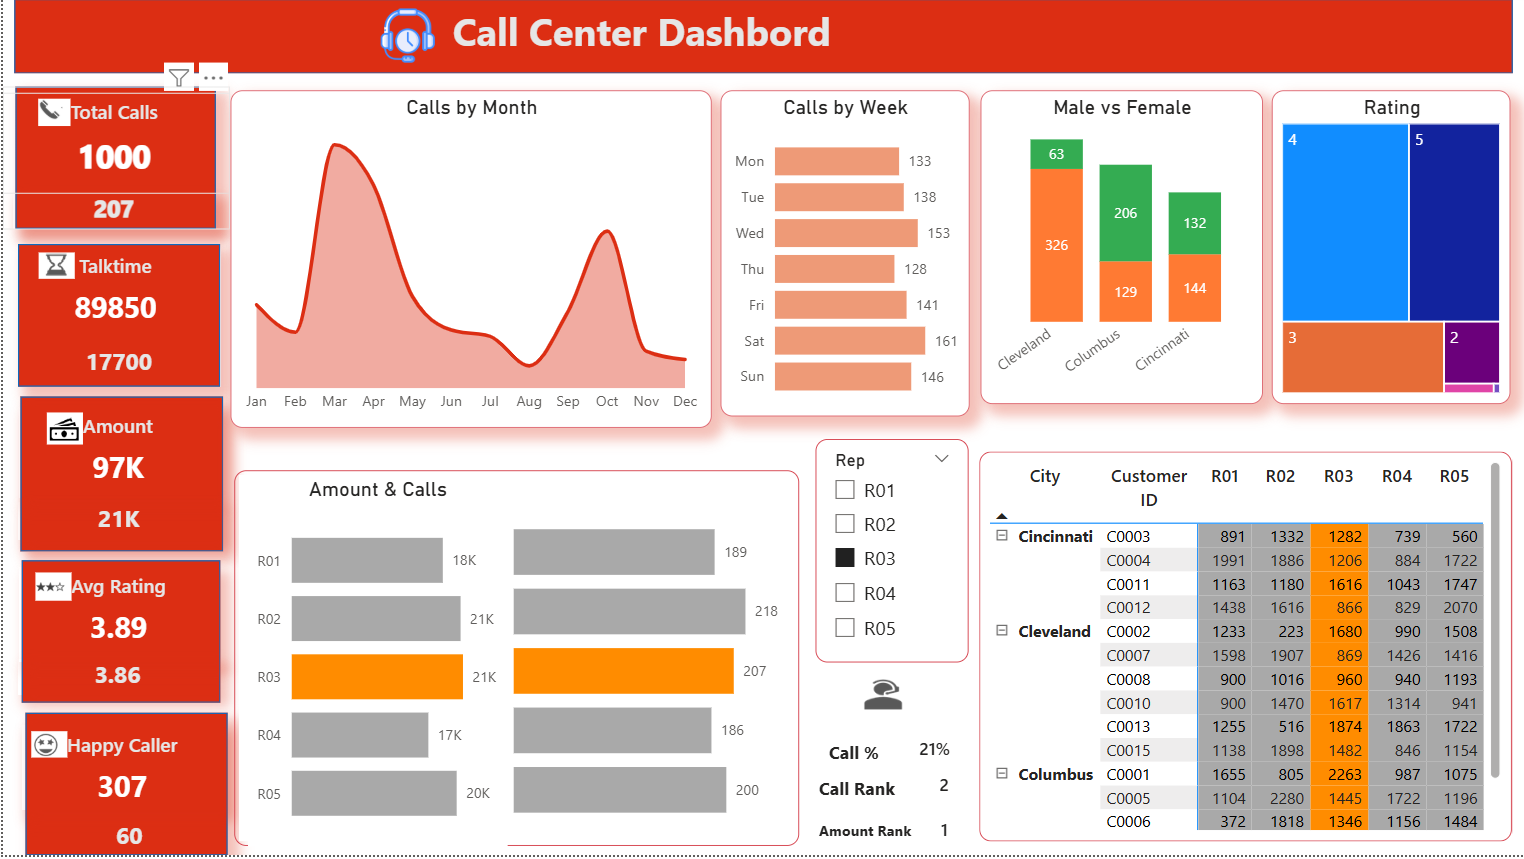

Layout of this report page (visuals, bound fields, positions):
{"tool":"powerbi","page":{"name":"Summery","canvas":[1280,720],"ordinal":0},"visuals":[{"type":"shape","box":[9.3,0,1260.5,62.8],"z":0},{"type":"shape","box":[10.8,73.6,168.5,119.7],"z":0,"group":"g1"},{"type":"shape","box":[12.8,206.1,170,120],"z":0,"group":"g2"},{"type":"shape","box":[14.5,334.1,170.4,130.2],"z":0,"group":"g3"},{"type":"shape","box":[194.2,396.5,475.6,316.3],"z":0,"group":"g6"},{"type":"shape","box":[15.6,472.1,167,119.8],"z":0,"group":"g4"},{"type":"shape","box":[18.8,600,170,120],"z":0,"group":"g5"},{"type":"textbox","box":[373.2,0,528.3,63.1],"z":1000},{"type":"clusteredBarChart","title":"Amount & Calls","fields":{"Category":["calls.Representative"],"Y":["_measures.Amount"]},"box":[205.5,401.3,218.7,311.5],"z":1000,"group":"g6"},{"type":"group","id":"g1","title":"Group 1","box":[0,73,179.3,120.3],"z":2000},{"type":"clusteredBarChart","title":"Calls","fields":{"Category":["calls.Representative"],"Y":["_measures.Total Calls"]},"box":[424.4,433.6,237.3,258],"z":2000,"group":"g6"},{"type":"cardVisual","fields":{"Data":["_measures.Total Calls"]},"box":[0,73,177.7,75.7],"z":3000,"group":"g1"},{"type":"group","id":"g2","title":"Group 1","box":[11.8,206.1,171,120],"z":3000},{"type":"cardVisual","fields":{"Data":["_measures.Talktime"]},"box":[11.8,208.3,166.3,84.9],"z":3000,"group":"g2"},{"type":"cardVisual","fields":{"Data":["_measures.Amount"]},"box":[14.2,342.2,166.3,76.7],"z":3000,"group":"g3"},{"type":"cardVisual","fields":{"Data":["_measures.Average Rating"]},"box":[13.5,477.8,167.7,80.1],"z":3000,"group":"g4"},{"type":"cardVisual","fields":{"Data":["_measures.Happy Caller"]},"box":[15.9,610.5,169.8,70.9],"z":3000,"group":"g5"},{"type":"group","id":"g3","title":"Group 1","box":[12.8,334.1,172.1,130.2],"z":4000},{"type":"card","fields":{"Values":["_measures.repcalls"]},"box":[8.4,152.9,169.3,25.2],"z":5000,"group":"g1"},{"type":"card","fields":{"Values":["_measures.RepAvgTalktime"]},"box":[12.5,290.9,170,30],"z":5000,"group":"g2"},{"type":"card","fields":{"Values":["_measures.repAmount"]},"box":[12.8,421.9,169.8,32.6],"z":5000,"group":"g3"},{"type":"group","id":"g4","title":"Group 1","box":[12.8,472.1,169.8,119.8],"z":5000},{"type":"card","fields":{"Values":["_measures.RepAvgRate"]},"box":[12.8,554.7,167.9,30.2],"z":5000,"group":"g4"},{"type":"card","fields":{"Values":["_measures.RepJappy Caller"]},"box":[27.9,690.7,158.1,29.1],"z":5000,"group":"g5"},{"type":"group","id":"g5","title":"Group 1","box":[15.9,600,172.9,120],"z":6000},{"type":"lineChart","title":" Calls by Month","fields":{"Y":["_measures.Total Calls"],"Category":["Calender.Month"]},"box":[191.9,76.7,404.7,283.7],"z":7000},{"type":"clusteredBarChart","title":" Calls by Week","fields":{"Category":["Calender.Weekname"],"Y":["_measures.Total Calls"]},"box":[603.5,76.8,209.2,282.8],"z":8000},{"type":"slicer","fields":{"Values":["Rep Table.Value"]},"box":[683.7,369.8,129.1,188.4],"z":9000},{"type":"columnChart","title":"Male vs Female","fields":{"Category":["customers.City"],"Y":["_measures.Total Calls"],"Series":["customers.Gedner"]},"box":[822.1,76.7,237.2,264],"z":10000},{"type":"treemap","title":"Rating","fields":{"Group":["calls.Rating rounded"],"Values":["_measures.Total Calls"]},"box":[1067.4,76.7,201.2,264],"z":11000},{"type":"group","id":"g6","title":"Group 1","box":[194.2,396.5,475.6,316.3],"z":12000},{"type":"pivotTable","fields":{"Columns":["calls.Representative"],"Rows":["customers.City","calls.Customer ID"],"Values":["_measures.Amount"]},"box":[820.9,380.2,447.7,327.9],"z":13000},{"type":"image","box":[708.1,565.1,64,40.7],"z":14000},{"type":"card","fields":{"Values":["_measures.call %"]},"box":[754.4,606.7,58.9,28.9],"z":15000},{"type":"textbox","box":[683.3,610,64.4,30],"z":16000},{"type":"card","fields":{"Values":["_measures.Call Rank"]},"box":[771.1,640,41.1,28.9],"z":17000},{"type":"textbox","box":[670,645.6,91.1,30],"z":18000},{"type":"textbox","box":[670,676.7,122.2,31.1],"z":19000},{"type":"card","fields":{"Values":["_measures.AmountRank"]},"box":[777.8,677.8,28.9,30],"z":20000},{"type":"image","box":[308.1,3.2,65.2,55.7],"z":21000}]}

Visuals, with their boxes in screenshot pixels (x1, y1, x2, y2), scaled from the page's 1280x720 canvas onto the 1524x859 screenshot:
shape: 11/0/1512/75
shape: 13/88/213/231
shape: 15/246/218/389
shape: 17/399/220/554
shape: 231/473/797/850
shape: 19/563/217/706
shape: 22/716/225/858
textbox: 444/0/1073/75
"Amount & Calls" clusteredBarChart: 245/479/505/850
"Group 1" group: 0/87/213/231
"Calls" clusteredBarChart: 505/517/788/825
cardVisual - _measures.Total Calls: 0/87/212/177
"Group 1" group: 14/246/218/389
cardVisual - _measures.Talktime: 14/249/212/350
cardVisual - _measures.Amount: 17/408/215/500
cardVisual - _measures.Average Rating: 16/570/216/666
cardVisual - _measures.Happy Caller: 19/728/221/813
"Group 1" group: 15/399/220/554
card - _measures.repcalls: 10/182/212/212
card - _measures.RepAvgTalktime: 15/347/217/383
card - _measures.repAmount: 15/503/217/542
"Group 1" group: 15/563/217/706
card - _measures.RepAvgRate: 15/662/215/698
card - _measures.RepJappy Caller: 33/824/221/858
"Group 1" group: 19/716/225/858
" Calls by Month" lineChart: 228/92/710/430
" Calls by Week" clusteredBarChart: 719/92/968/429
slicer - Rep Table.Value: 814/441/968/666
"Male vs Female" columnChart: 979/92/1261/406
"Rating" treemap: 1271/92/1510/406
"Group 1" group: 231/473/797/850
pivotTable - calls.Representative x customers.City: 977/454/1510/845
image: 843/674/919/723
card - _measures.call %: 898/724/968/758
textbox: 814/728/890/764
card - _measures.Call Rank: 918/764/967/798
textbox: 798/770/906/806
textbox: 798/807/943/844
card - _measures.AmountRank: 926/809/960/844
image: 367/4/444/70
